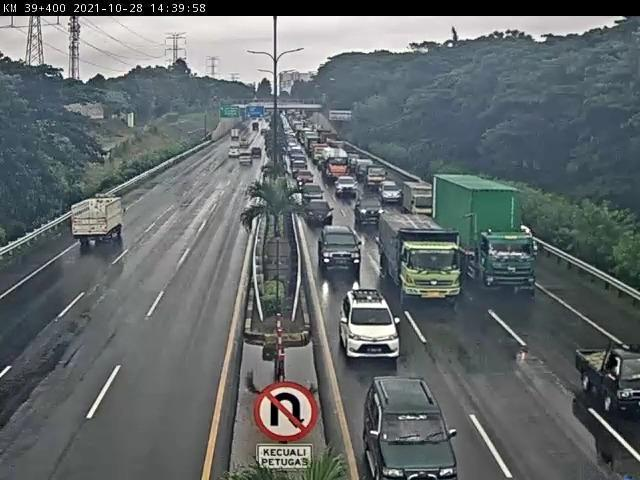car: (365, 378, 457, 480), (577, 342, 640, 417), (342, 288, 402, 358), (319, 226, 364, 273), (307, 199, 336, 225), (356, 199, 382, 223), (365, 164, 390, 188), (336, 176, 360, 195), (379, 182, 401, 202), (302, 183, 324, 203)
truck: (433, 176, 534, 291), (380, 213, 464, 303), (72, 199, 126, 245), (403, 180, 436, 212)
